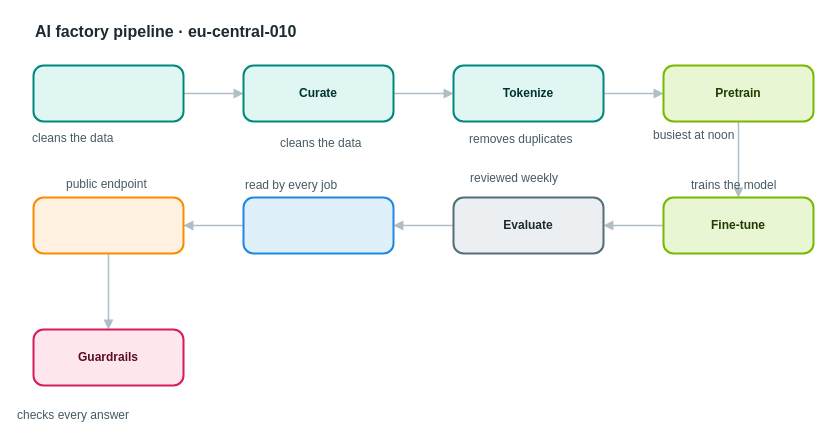
This 832x440 diagram has some shape labels left out. Here are the shapes that lost their labels. From the top down, the box of each, then its label:
(32, 64, 184, 122): Ingest
(32, 196, 184, 254): Serve
(242, 196, 394, 254): Model registry
